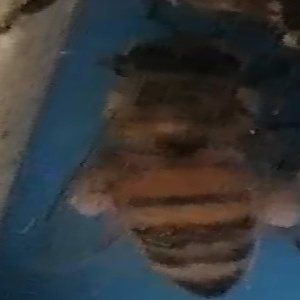bee: (65, 33, 293, 296)
